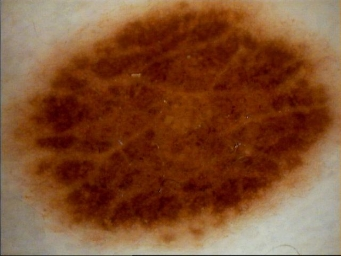nevus: (23, 7, 334, 241)
